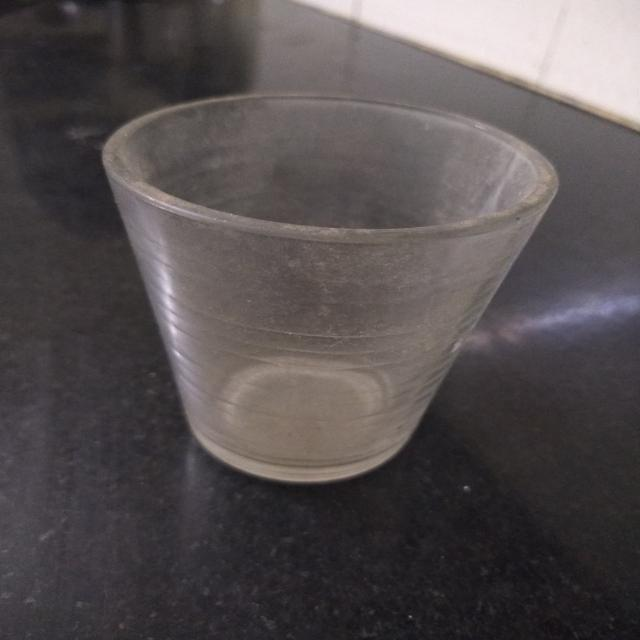Glass: (97, 88, 562, 485)
